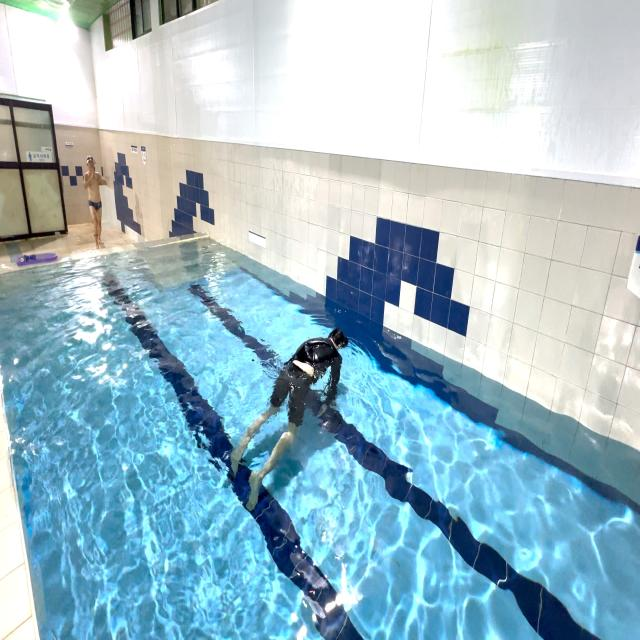Drowning: (228, 313, 356, 514)
